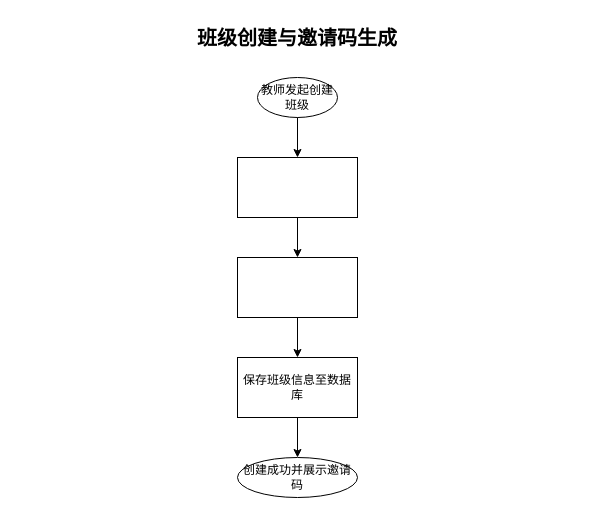
This 594x515 diagram has some shape labels left out. Here are the shapes that lost their labels. From the top down, the box of each, then its label:
(236, 156, 358, 218): 填写班级名称与描述
(236, 256, 358, 318): 系统自动生成 6 位邀请码
